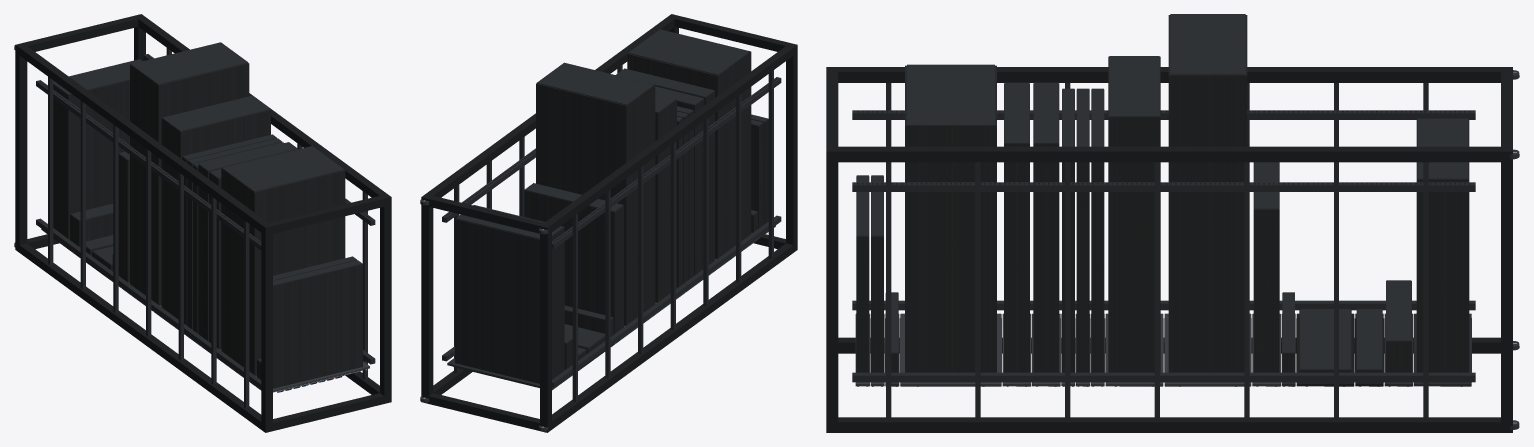
File: dell-compute-42u.glb
The picture shows the model from 3 angles, left to right: view 1: azimuth 30°, elevation 25°; view 2: azimuth 150°, elevation 25°; view 3: azimuth 270°, elevation 25°; orthographic projection. The views are drawn at different scales.
Parts seen in each view (by area): view 1: RACK_FRAME__nexus_black_dark, MX7000__steel_textured, S5248F_A__steel_textured, SIDE_BRACES__nexus_black, XE9680__steel_textured, DELL_UPS__steel_textured, R960__steel_textured, MOUNTING_RAILS__nexus_black, MX7000__dell_graphite_dark, XE9680__dell_graphite_dark, R960__dell_graphite_dark, R760_B__steel_textured (+14 smaller); view 2: RACK_FRAME__nexus_black_dark, DELL_UPS__steel_textured, XE9680__steel_textured, SIDE_BRACES__nexus_black, MX7000__steel_textured, POWERVAULT_ME5__steel_textured, MOUNTING_RAILS__nexus_black, MX7000__dell_graphite_dark, R960__steel_textured, XE9680__dell_graphite_dark, R760_B__steel_textured, S5248F_B__steel_textured (+12 smaller); view 3: RACK_FRAME__nexus_black_dark, XE9680__steel_textured, MX7000__steel_textured, MOUNTING_RAILS__nexus_black, SIDE_BRACES__nexus_black, R960__steel_textured, DELL_UPS__steel_textured, R760_B__steel_textured, MX7000__dell_graphite_dark, R760_A__steel_textured, XE9680__dell_graphite_dark, POWERVAULT_ME5__steel_textured (+26 smaller).
Part boxes in pixels (bbox=[...]): RACK_FRAME__nexus_black_dark: bbox=[15, 14, 391, 432]; MX7000__steel_textured: bbox=[221, 168, 345, 375]; S5248F_A__steel_textured: bbox=[273, 264, 362, 388]; SIDE_BRACES__nexus_black: bbox=[48, 48, 367, 408]; XE9680__steel_textured: bbox=[130, 63, 249, 305]; DELL_UPS__steel_textured: bbox=[53, 80, 129, 239]; R960__steel_textured: bbox=[161, 110, 270, 319]; MOUNTING_RAILS__nexus_black: bbox=[36, 54, 375, 388]; MX7000__dell_graphite_dark: bbox=[222, 146, 344, 191]; XE9680__dell_graphite_dark: bbox=[130, 42, 248, 84]; R960__dell_graphite_dark: bbox=[162, 96, 270, 131]; R760_B__steel_textured: bbox=[198, 164, 221, 341]; RACK_FRAME__nexus_black_dark: bbox=[421, 14, 797, 432]; DELL_UPS__steel_textured: bbox=[455, 219, 564, 383]; XE9680__steel_textured: bbox=[536, 83, 655, 325]; SIDE_BRACES__nexus_black: bbox=[454, 65, 773, 401]; MX7000__steel_textured: bbox=[627, 51, 751, 258]; POWERVAULT_ME5__steel_textured: bbox=[524, 190, 623, 334]; MOUNTING_RAILS__nexus_black: bbox=[442, 77, 781, 387]; MX7000__dell_graphite_dark: bbox=[628, 29, 750, 75]; R960__steel_textured: bbox=[655, 99, 676, 302]; XE9680__dell_graphite_dark: bbox=[536, 62, 654, 105]; R760_B__steel_textured: bbox=[677, 99, 704, 275]; S5248F_B__steel_textured: bbox=[751, 123, 763, 228]; RACK_FRAME__nexus_black_dark: bbox=[826, 67, 1512, 432]; XE9680__steel_textured: bbox=[1168, 15, 1247, 372]; MX7000__steel_textured: bbox=[905, 65, 996, 372]; MOUNTING_RAILS__nexus_black: bbox=[852, 110, 1475, 382]; SIDE_BRACES__nexus_black: bbox=[886, 83, 1428, 420]; R960__steel_textured: bbox=[1108, 56, 1160, 372]; DELL_UPS__steel_textured: bbox=[1416, 119, 1469, 372]; R760_B__steel_textured: bbox=[1033, 83, 1059, 372]; MX7000__dell_graphite_dark: bbox=[907, 64, 994, 125]; R760_A__steel_textured: bbox=[1004, 83, 1029, 372]; XE9680__dell_graphite_dark: bbox=[1170, 14, 1245, 75]; POWERVAULT_ME5__steel_textured: bbox=[1253, 162, 1279, 372].
Size of the model in its own units: 0.609 by 1.16 by 2.1.
29 materials, 5 textured.
